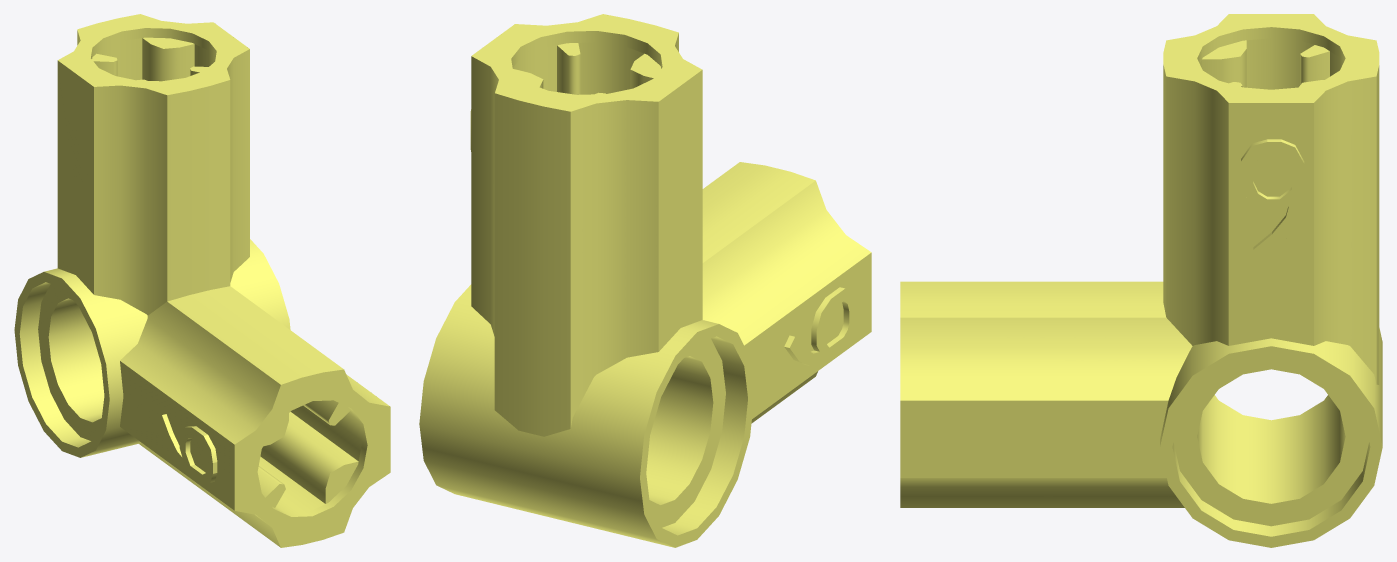
3 views of the same model, side by side, from view 1: azimuth 30°, elevation 25°; view 2: azimuth 150°, elevation 25°; view 3: azimuth 270°, elevation 25° (orthographic). The views are drawn at different scales.
Parts seen in each view (by area): view 1: 32014.dat; view 2: 32014.dat; view 3: 32014.dat.
Part boxes in pixels (left/top/right/bottom): 32014.dat: left=14, top=14, right=390, bottom=547; 32014.dat: left=419, top=14, right=871, bottom=547; 32014.dat: left=900, top=14, right=1382, bottom=547.
Bounding box in the file's own units: 0.008 × 0.0156 × 0.0156.
